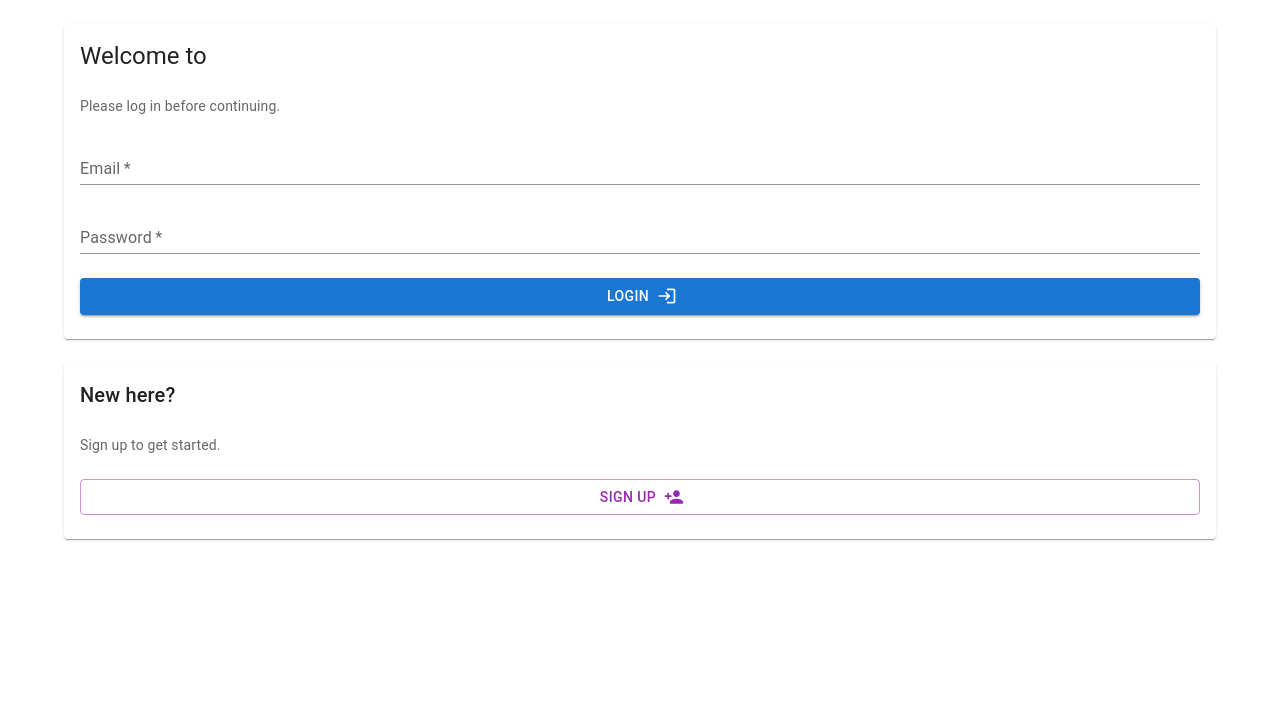
Test: LoginPage › form field email gets validated on the backend
The image size is (1280, 720).
Type "email.address@is.non.existent" into the field labelled "Email *" at (640, 170), box [80,156,1200,185]
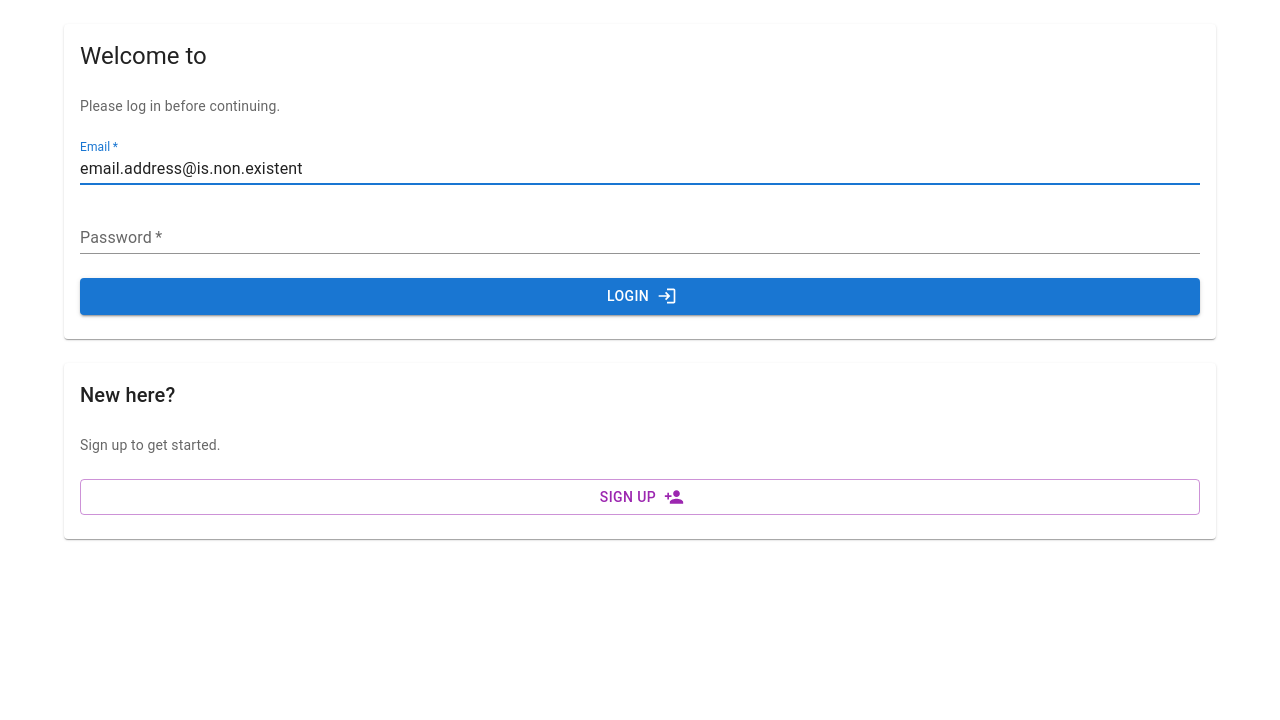
Type "password-is-correct" into the password field labelled "Password *" at (640, 240), box [80,225,1200,254]
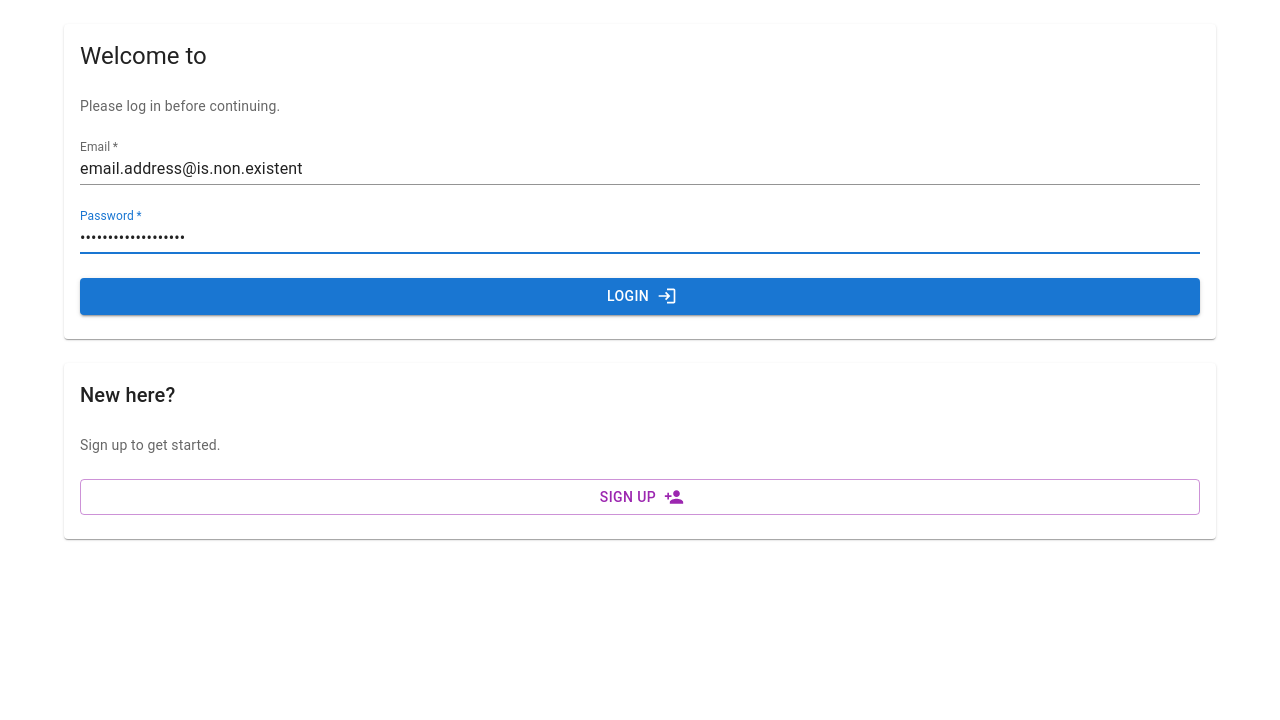
Click the button "Login" at (640, 296), box [80,278,1200,314]
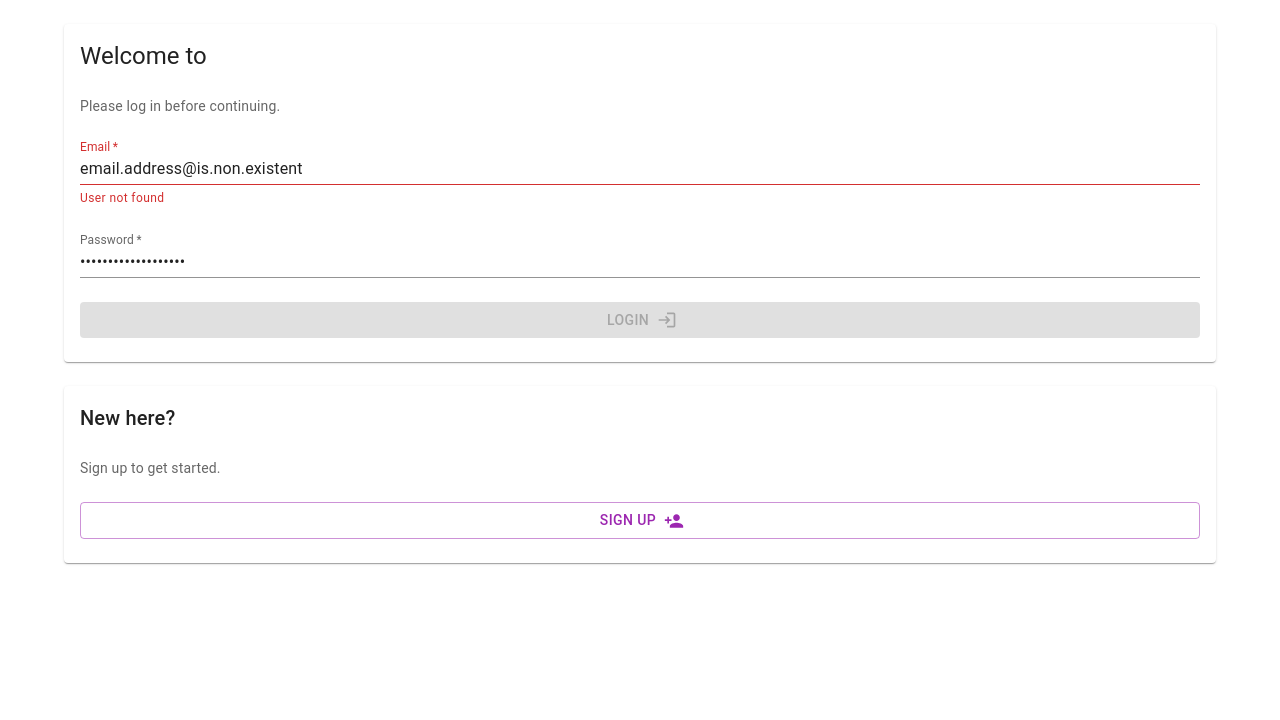
Now the button "Login" is disabled, box [80,302,1200,338]
Now the text "User not found" is shown, box [80,191,164,205]
